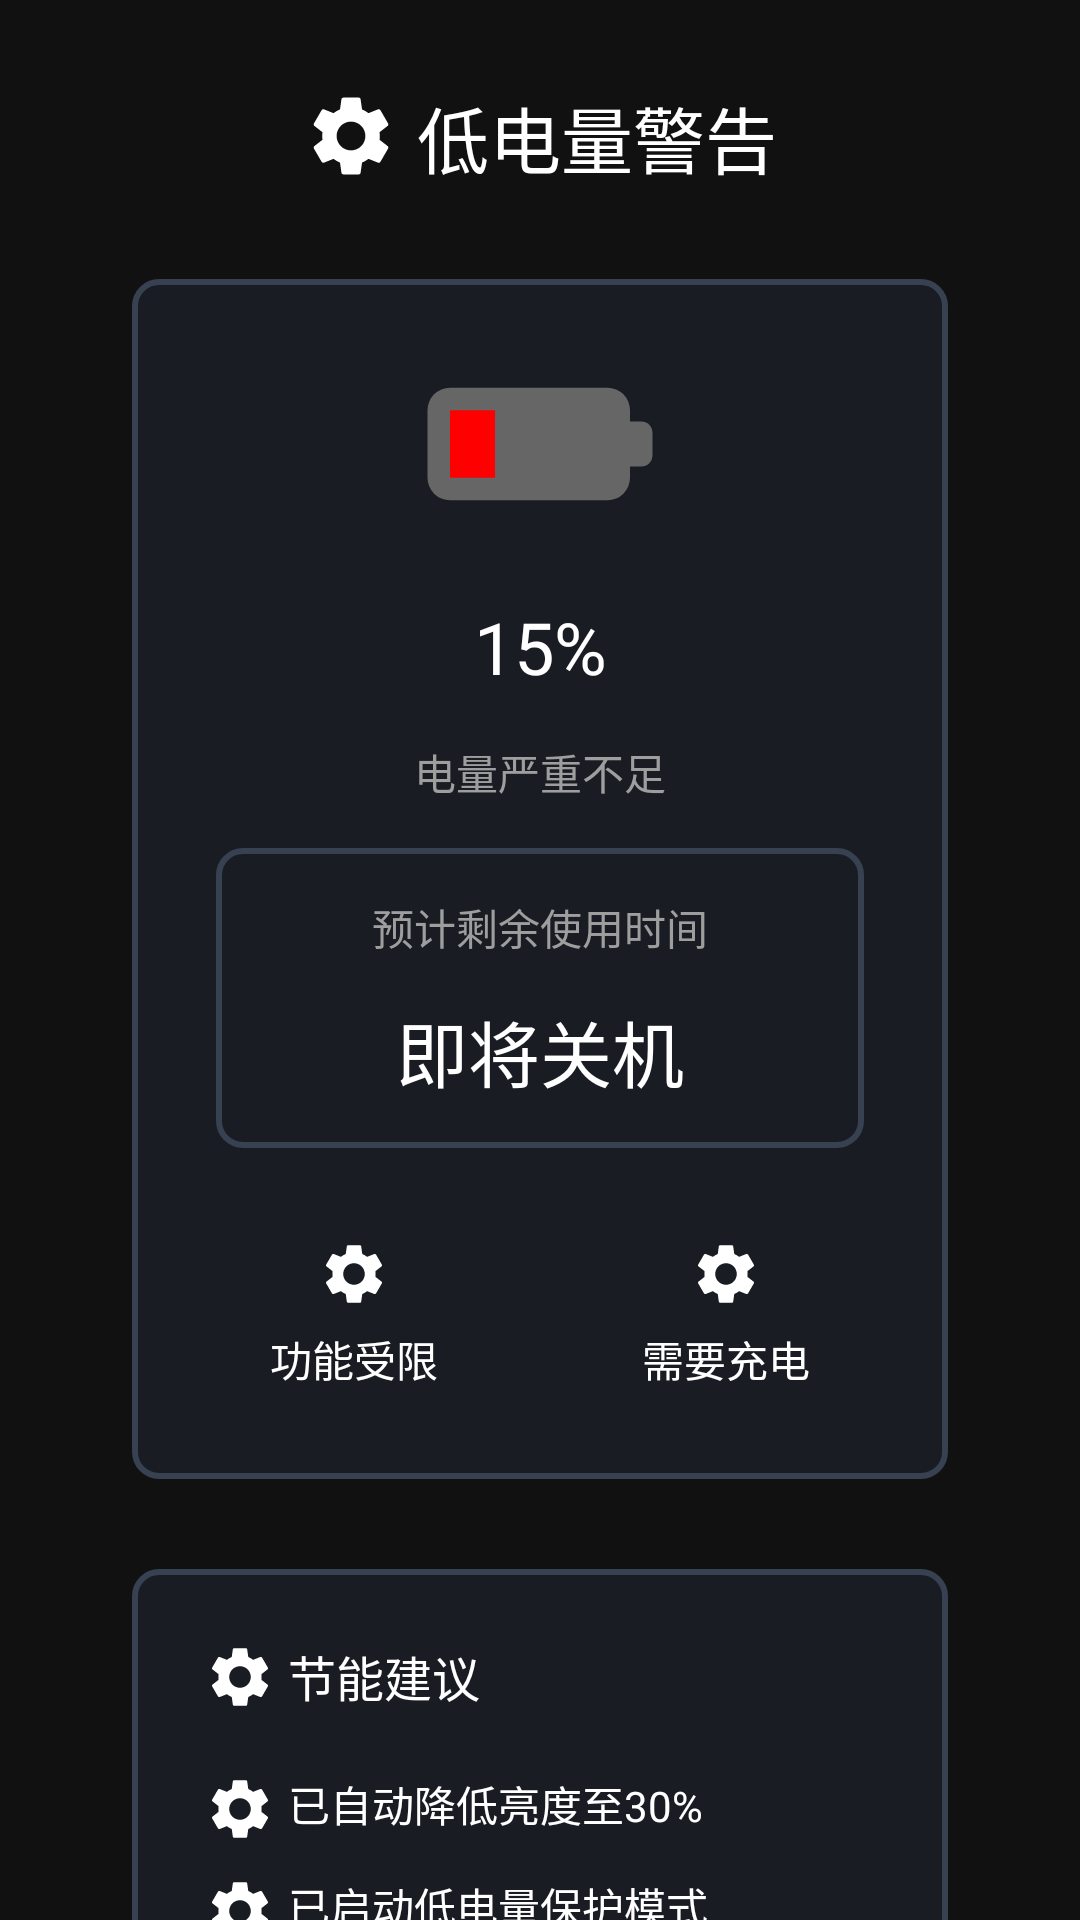

Icons on this 1080w x 1920h Android screen, each with the point to tap as (x=x, y=y):
battery: (x=540, y=444)
